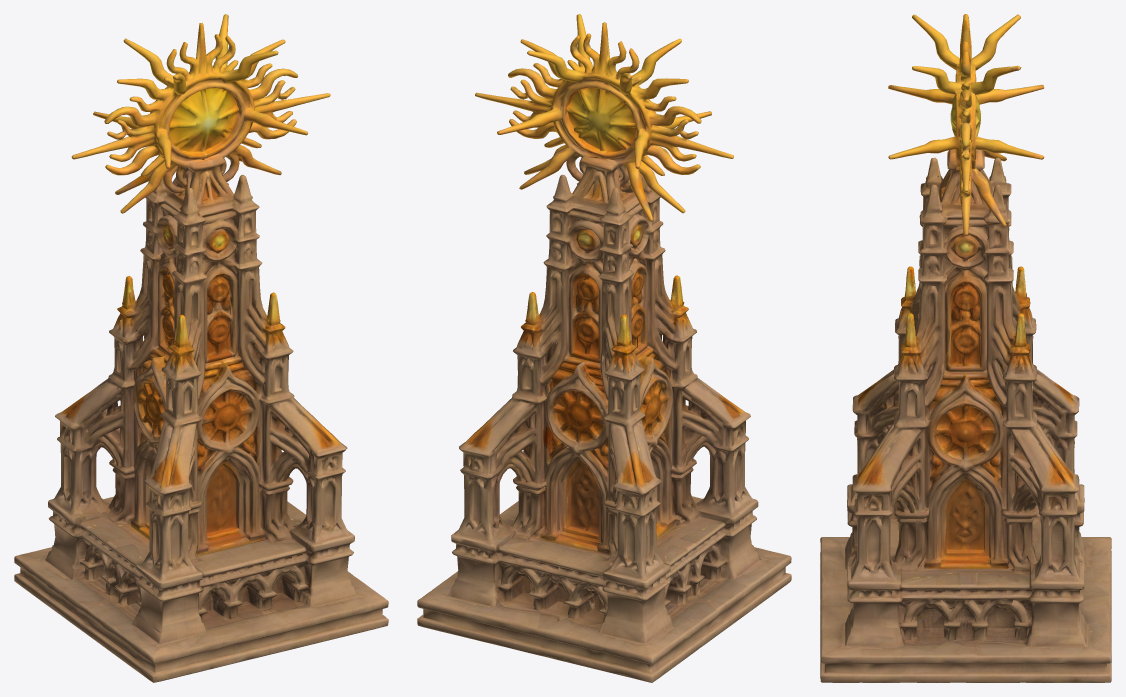
The picture shows the model from 3 angles, left to right: view 1: azimuth 30°, elevation 25°; view 2: azimuth 150°, elevation 25°; view 3: azimuth 270°, elevation 25°; orthographic projection. The views are drawn at different scales.
Visible parts, largest first — view 1: Untitled_2; view 2: Untitled_2; view 3: Untitled_2.
Boxes of the visible parts, x1,y1,x2,y2 form: Untitled_2: (14,14,388,682); Untitled_2: (417,14,791,682); Untitled_2: (820,14,1111,682).
Size of the model in its own units: 0.9312 by 2 by 0.8722.
Materials: 1 (1 with a texture image).
